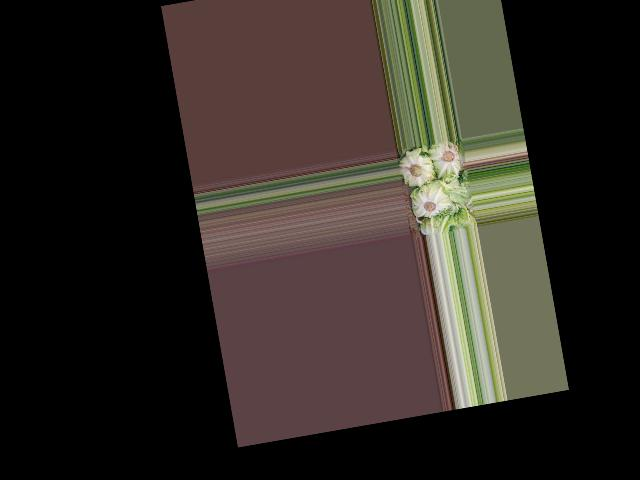lettuce: (427, 139, 463, 179)
